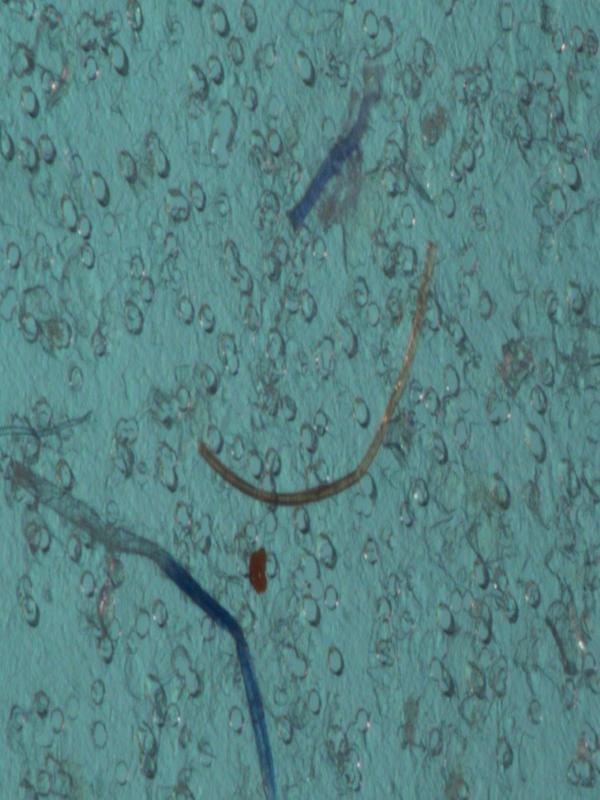microplastic: (1, 1, 598, 797), (196, 237, 438, 508), (285, 75, 382, 236)
